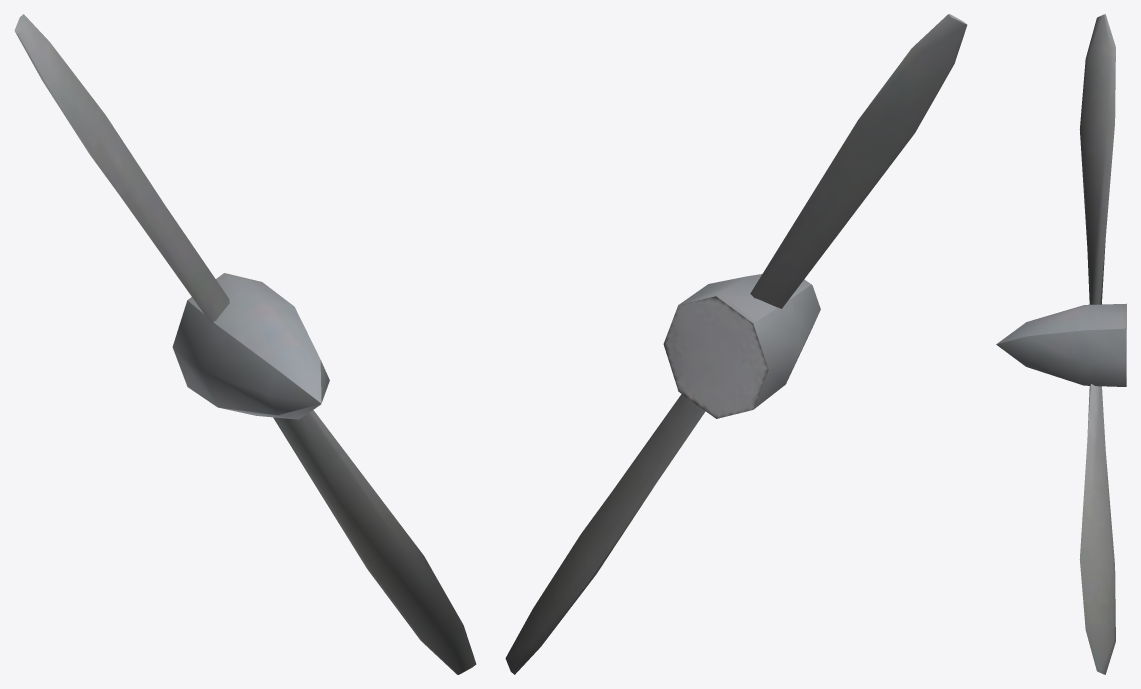
File: propeller.obj
3 renders of one model, left to right at view 1: azimuth 30°, elevation 25°; view 2: azimuth 150°, elevation 25°; view 3: azimuth 270°, elevation 25°, orthographic. The views are drawn at different scales.
Parts seen in each view (by area): view 1: awionetka_Mesh; view 2: awionetka_Mesh; view 3: awionetka_Mesh.
Part boxes in pixels (x1=…): awionetka_Mesh: x1=14, y1=14, x2=476, y2=674; awionetka_Mesh: x1=505, y1=14, x2=967, y2=674; awionetka_Mesh: x1=996, y1=14, x2=1126, y2=674.
Size of the model in its own units: 0.0115 by 0.0183 by 0.00419.
